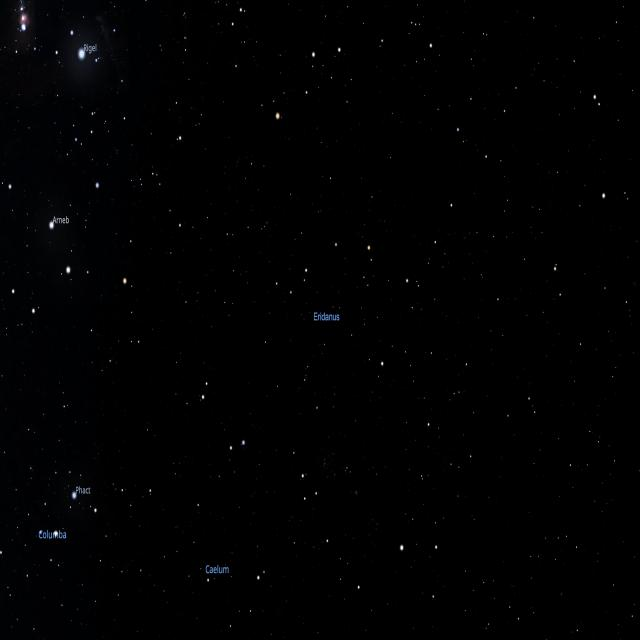Eridanus: (198, 2, 456, 640)
